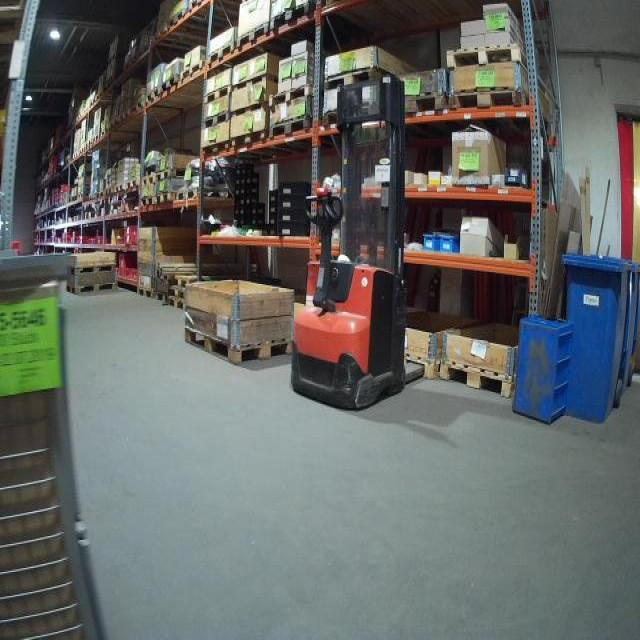pallet: (182, 327, 292, 365), (439, 360, 514, 398), (445, 41, 523, 67), (452, 86, 528, 110), (323, 64, 390, 91), (270, 3, 313, 30), (269, 83, 313, 108), (269, 115, 311, 139), (233, 71, 278, 93), (405, 91, 444, 115), (65, 279, 117, 295), (237, 22, 269, 48), (231, 100, 269, 121), (231, 129, 268, 148), (207, 41, 236, 65), (67, 262, 116, 276), (203, 83, 232, 106), (200, 138, 230, 157), (154, 168, 190, 183), (180, 60, 205, 81), (204, 110, 230, 129), (168, 5, 188, 29), (159, 74, 179, 94), (154, 192, 177, 206), (170, 275, 195, 287), (167, 295, 185, 310), (145, 87, 161, 103), (176, 188, 199, 199), (167, 286, 186, 299), (141, 174, 155, 188), (140, 195, 155, 207), (137, 287, 151, 299), (156, 291, 170, 303), (189, 0, 203, 11), (126, 178, 140, 188), (114, 181, 125, 193), (119, 110, 130, 121), (110, 117, 119, 129), (92, 133, 100, 143), (78, 192, 84, 199)
pallet_truck: (286, 69, 425, 414)
small_load_carrier: (439, 233, 458, 251), (425, 232, 438, 250)
stillage: (0, 241, 109, 639)
